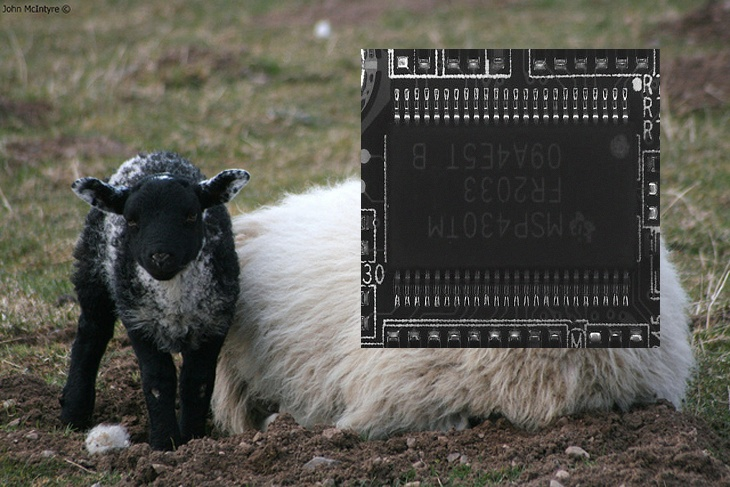PIN: (386, 261, 637, 312), (386, 80, 634, 125)
sheep: (213, 79, 693, 421), (60, 153, 250, 447)
